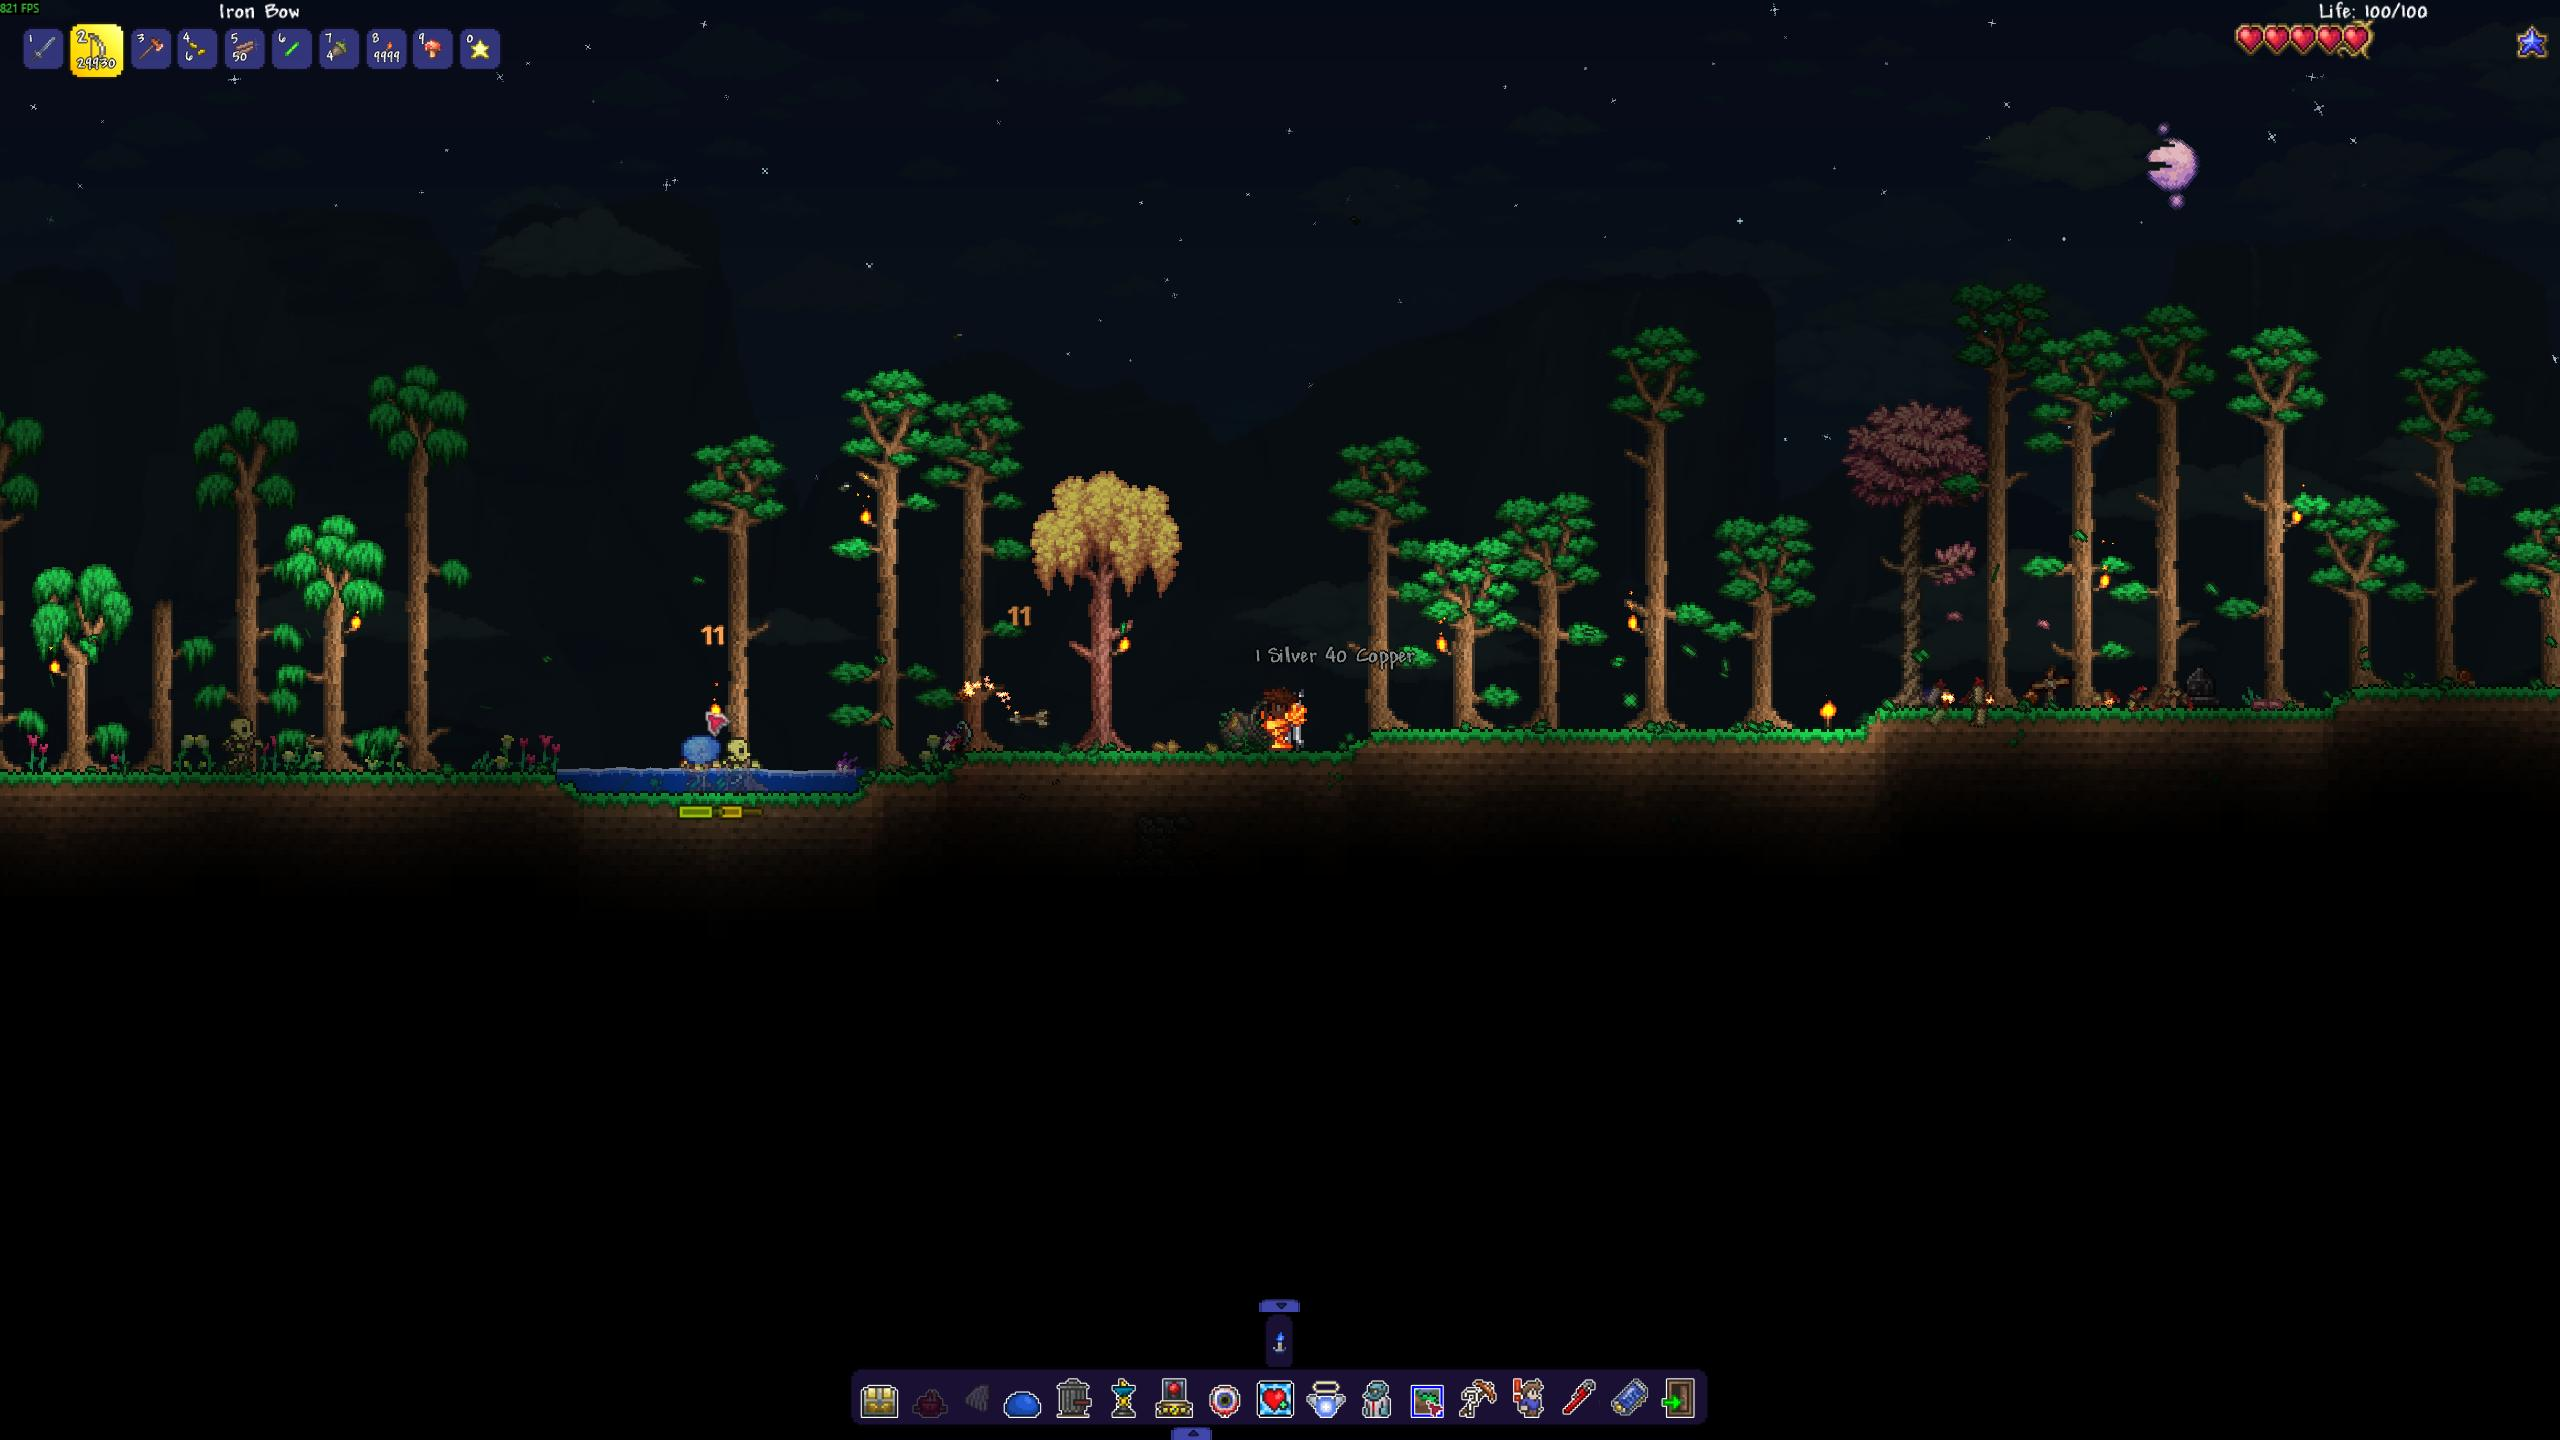Zombie: (215, 709, 265, 774), (682, 726, 723, 795), (721, 735, 758, 793)
